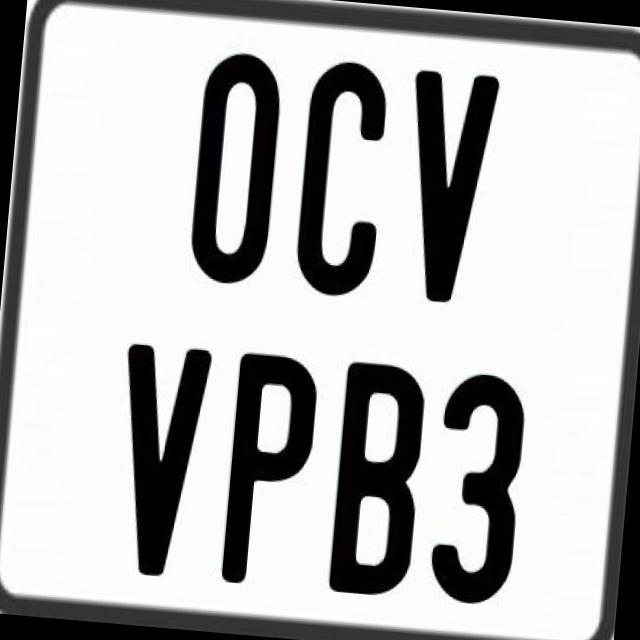0: (184, 48, 286, 286)
3: (427, 366, 535, 602)
B: (328, 356, 436, 595)
C: (292, 56, 392, 297)
P: (215, 349, 322, 596)
V: (392, 64, 502, 310), (104, 338, 214, 580)
